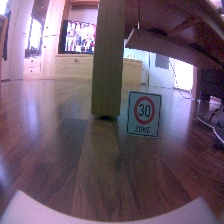dreisiger_zone: (126, 90, 161, 139)
